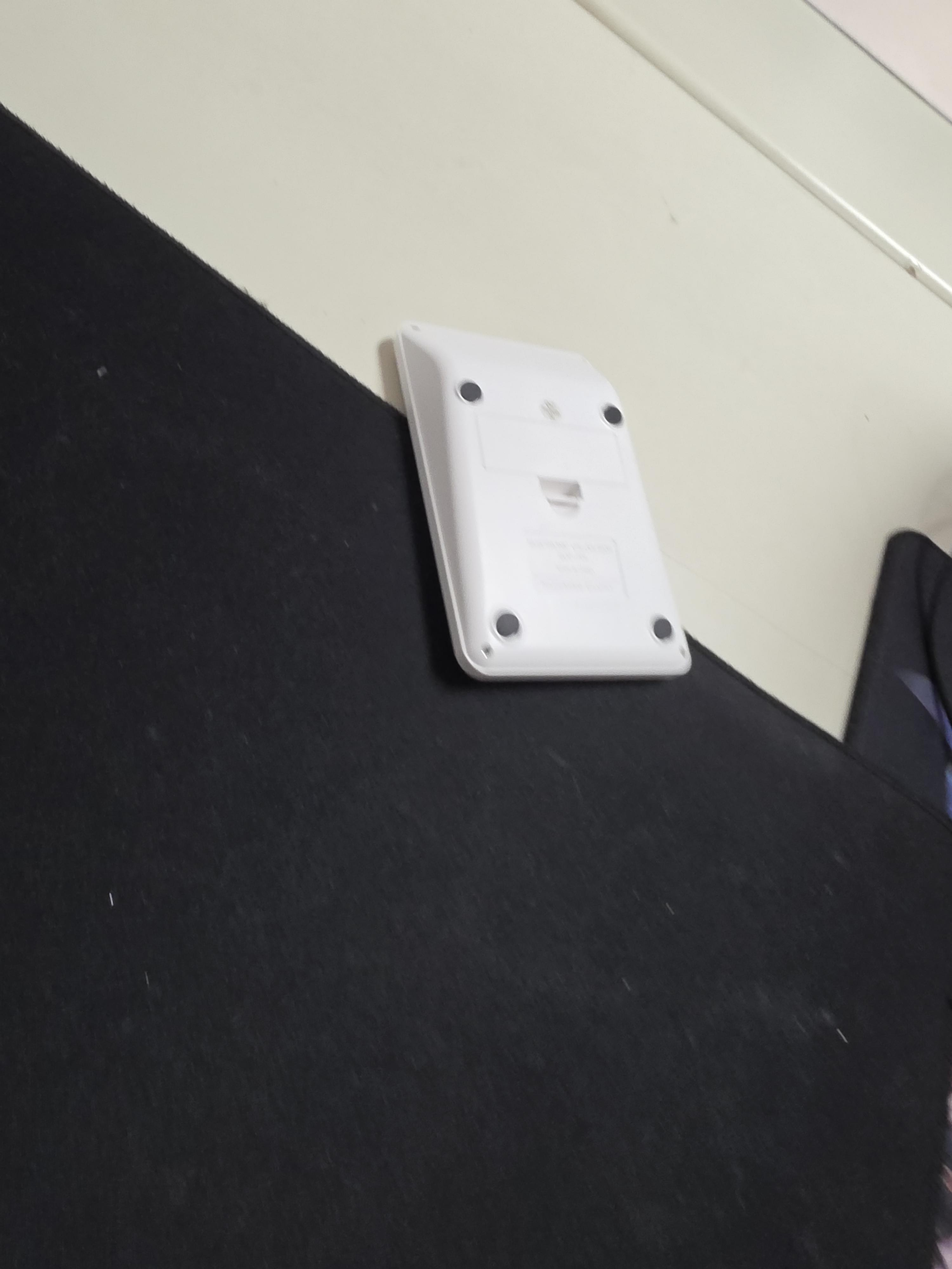calculator: (393, 320, 692, 683)
